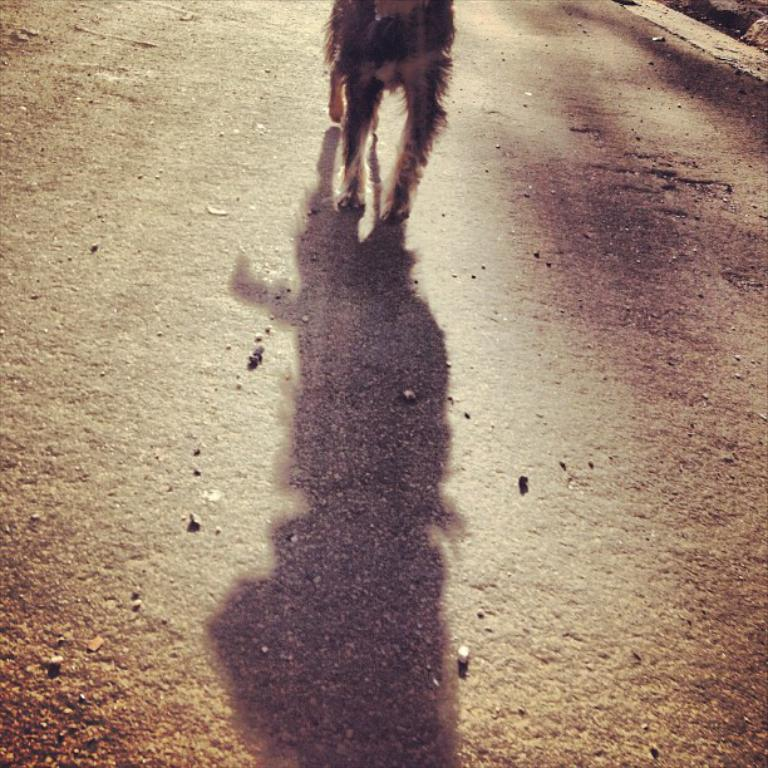Animal: (316, 0, 464, 222)
